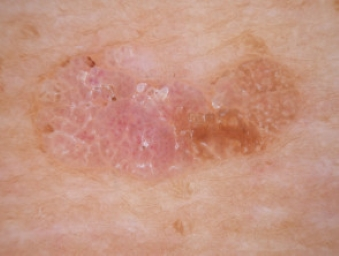seborrheic keratosis: (19, 33, 309, 190)
